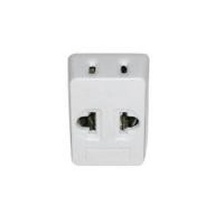three_eye_plug: (64, 50, 152, 174)
